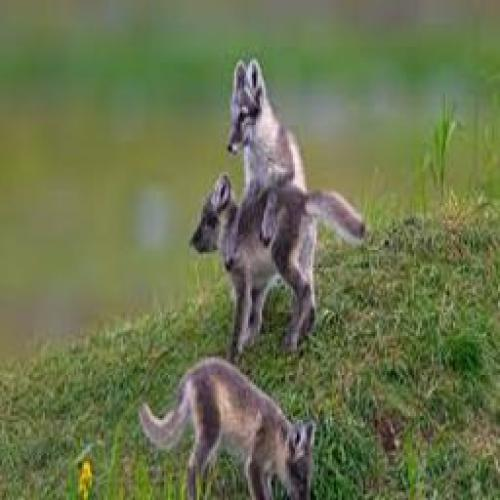arctic_fox-endangered: (184, 176, 369, 355), (138, 353, 322, 500), (221, 57, 314, 205)
